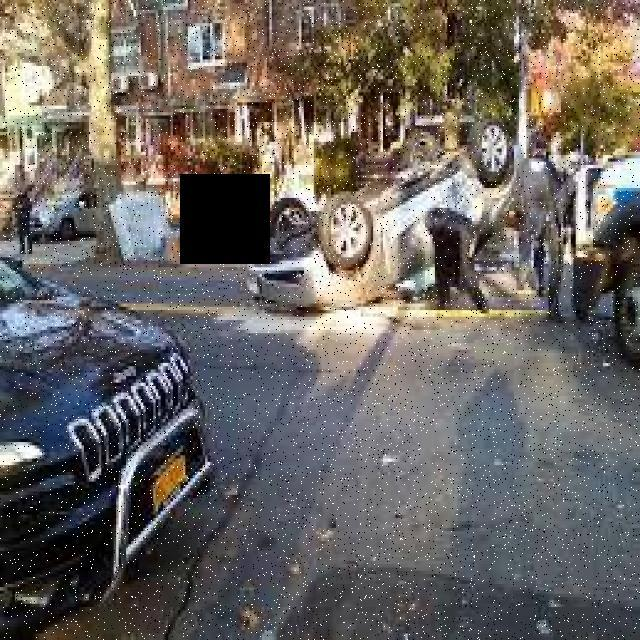severe: (244, 120, 532, 315)
